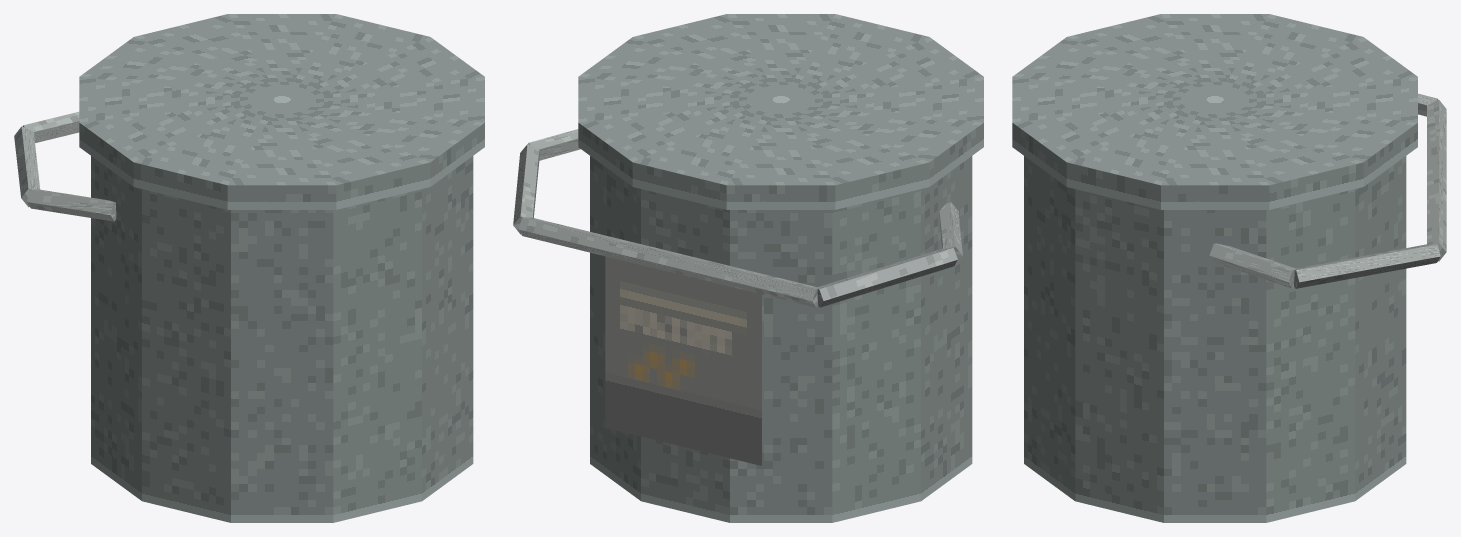
Rendered from paint_can_steel.glb.
3 renders of one model, left to right at view 1: azimuth 30°, elevation 25°; view 2: azimuth 150°, elevation 25°; view 3: azimuth 270°, elevation 25°, orthographic.
Parts seen in each view (by area): view 1: block_steel or plastic pail, block_sealed lid, block_bail handle 0, block_bail handle 1, block_bail handle 2; view 2: block_steel or plastic pail, block_sealed lid, block_paint label, block_bail handle 2, block_bail handle 1, block_bail handle 3, block_bail handle 0, block_bail handle 4; view 3: block_steel or plastic pail, block_sealed lid, block_bail handle 3, block_bail handle 2, block_bail handle 4.
Part boxes in pixels (<box>): block_steel or plastic pail: <box>91,156,473,522</box>; block_sealed lid: <box>79,14,484,209</box>; block_bail handle 0: <box>27,189,116,221</box>; block_bail handle 1: <box>14,126,40,207</box>; block_bail handle 2: <box>22,111,79,143</box>; block_steel or plastic pail: <box>590,156,972,522</box>; block_sealed lid: <box>578,14,983,209</box>; block_paint label: <box>605,256,761,465</box>; block_bail handle 2: <box>518,217,817,307</box>; block_bail handle 1: <box>817,247,957,307</box>; block_bail handle 3: <box>513,144,539,234</box>; block_bail handle 0: <box>939,202,962,264</box>; block_bail handle 4: <box>528,129,580,160</box>; block_steel or plastic pail: <box>1024,156,1406,522</box>; block_sealed lid: <box>1012,14,1417,209</box>; block_bail handle 3: <box>1294,244,1440,288</box>; block_bail handle 2: <box>1427,100,1446,261</box>; block_bail handle 4: <box>1209,243,1295,288</box>.
Bounding box in the file's own units: 0.21 × 0.157 × 0.1803.
1 material, 1 textured.
